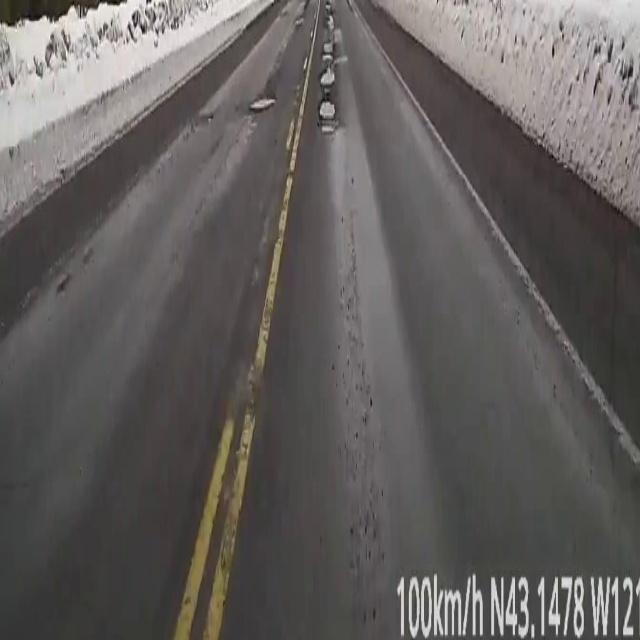pothole: (318, 0, 339, 130), (248, 92, 276, 115)
